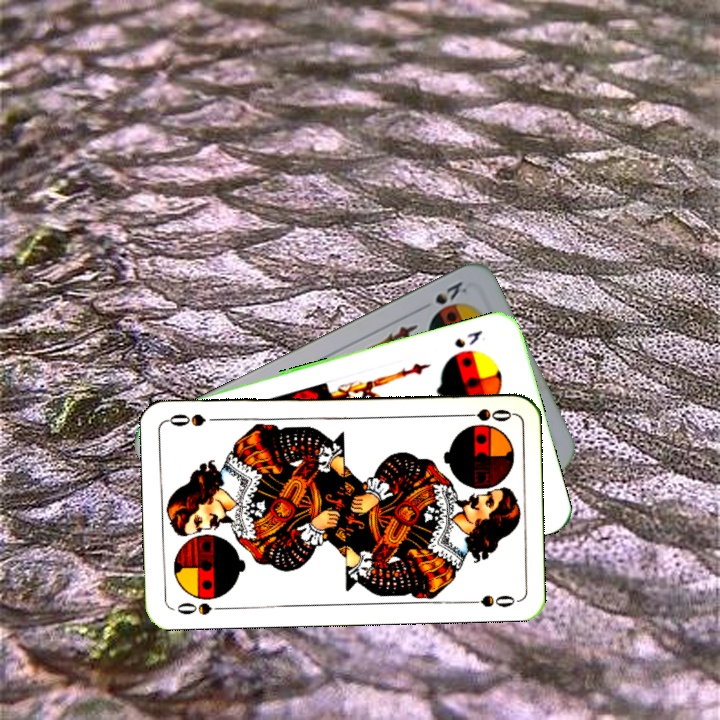SK: (431, 277, 470, 308), (450, 326, 488, 351)
SO: (455, 404, 514, 424), (170, 598, 229, 617)
